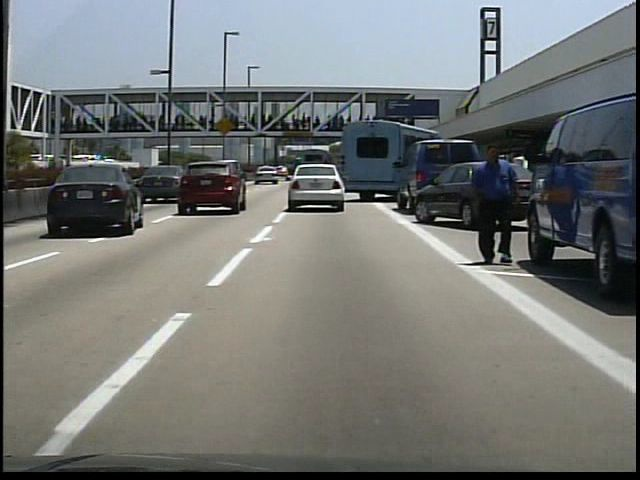person: (464, 143, 524, 268)
